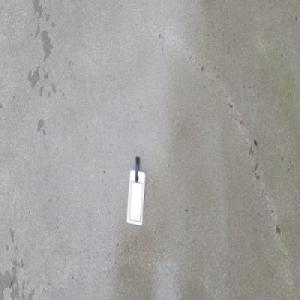LuggageTag: (125, 154, 146, 226)
